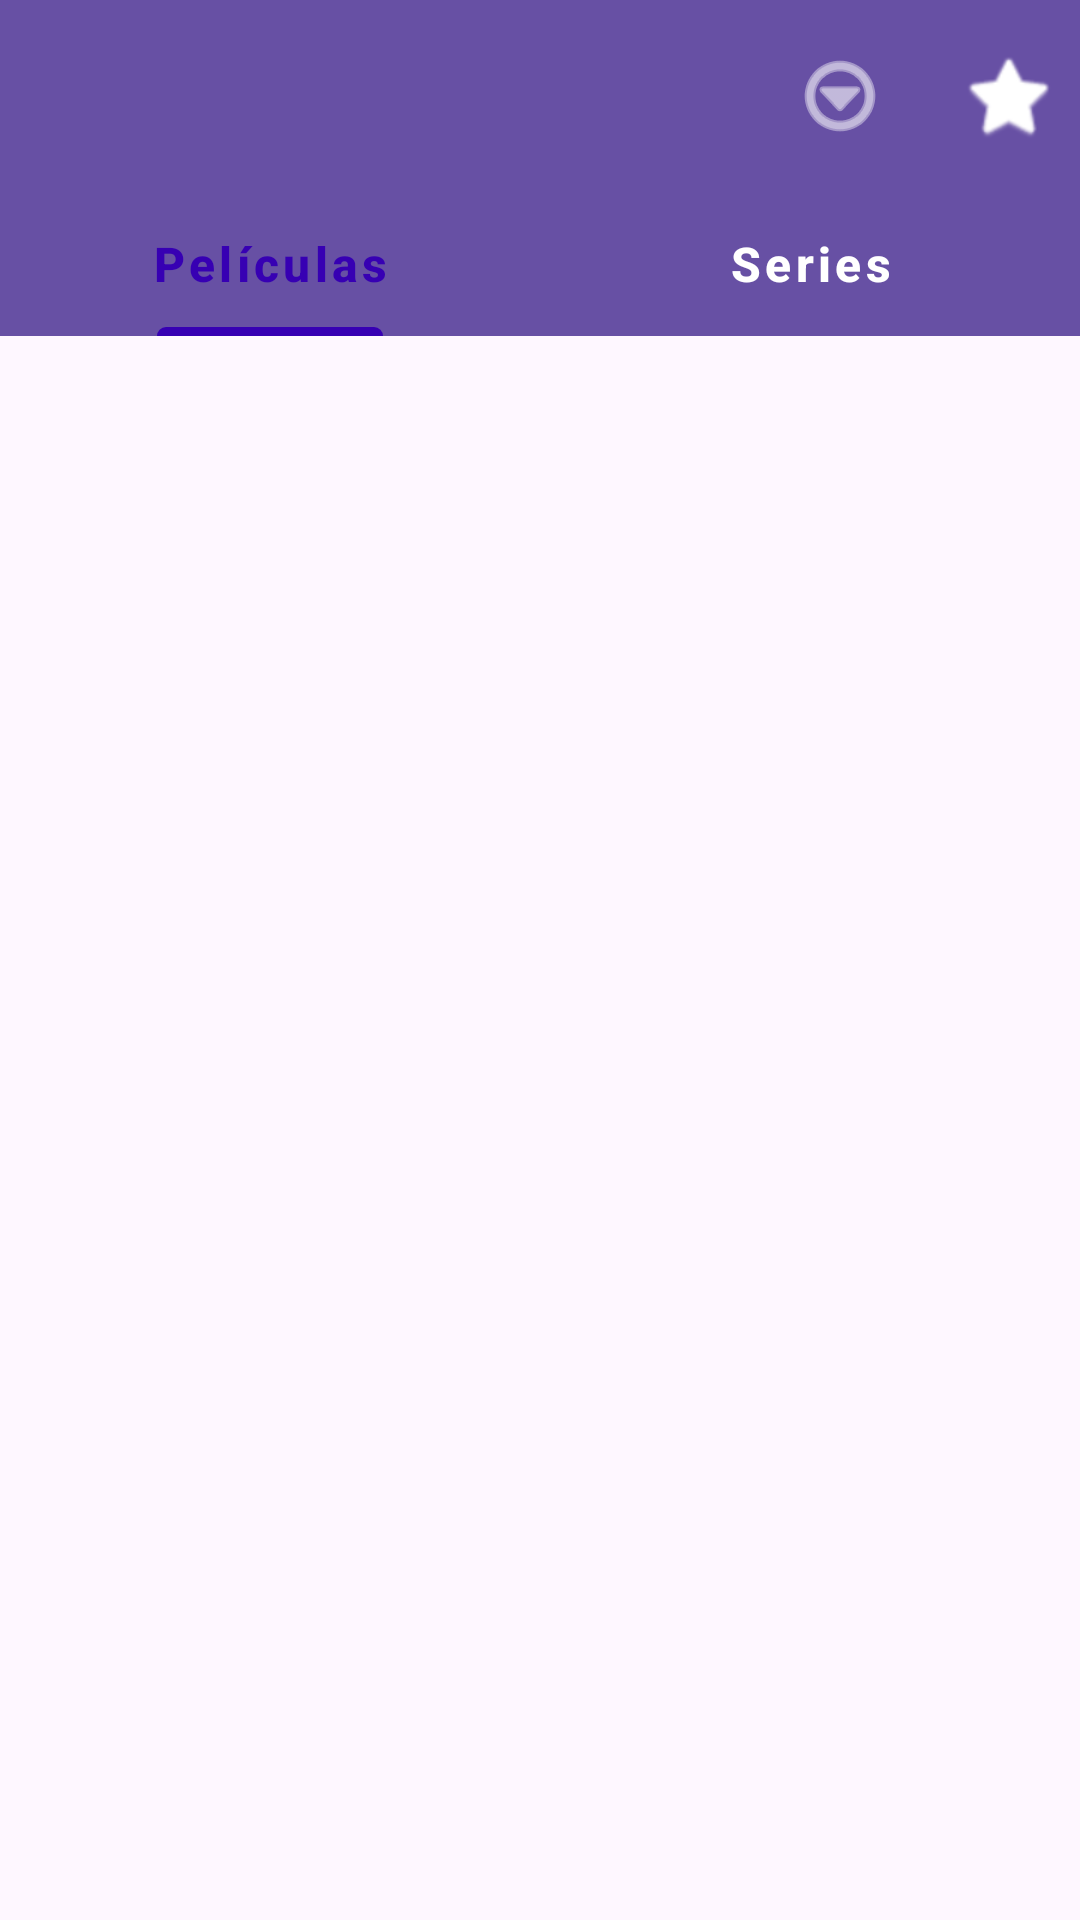

Locate icon controls on the screen. Image size 1080w x 1920h, boxes as [x1,y1,x2,y2].
more: [805,61,875,131]
star on: [969,58,1049,135]
